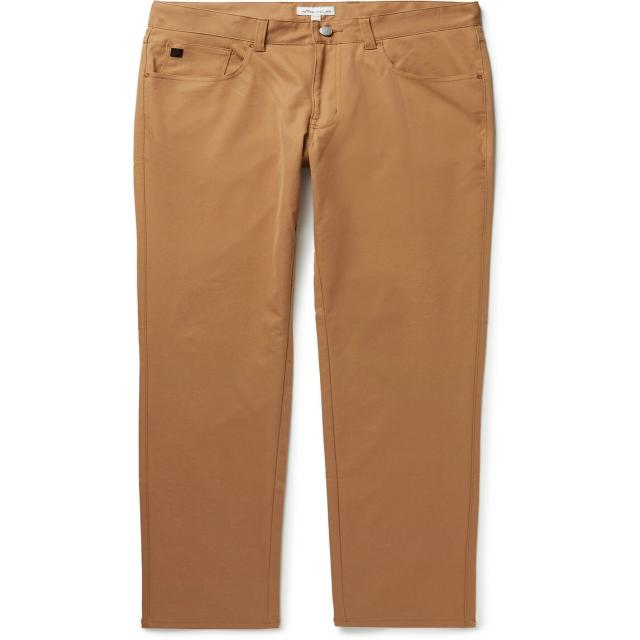long-pants: (133, 0, 497, 637)
